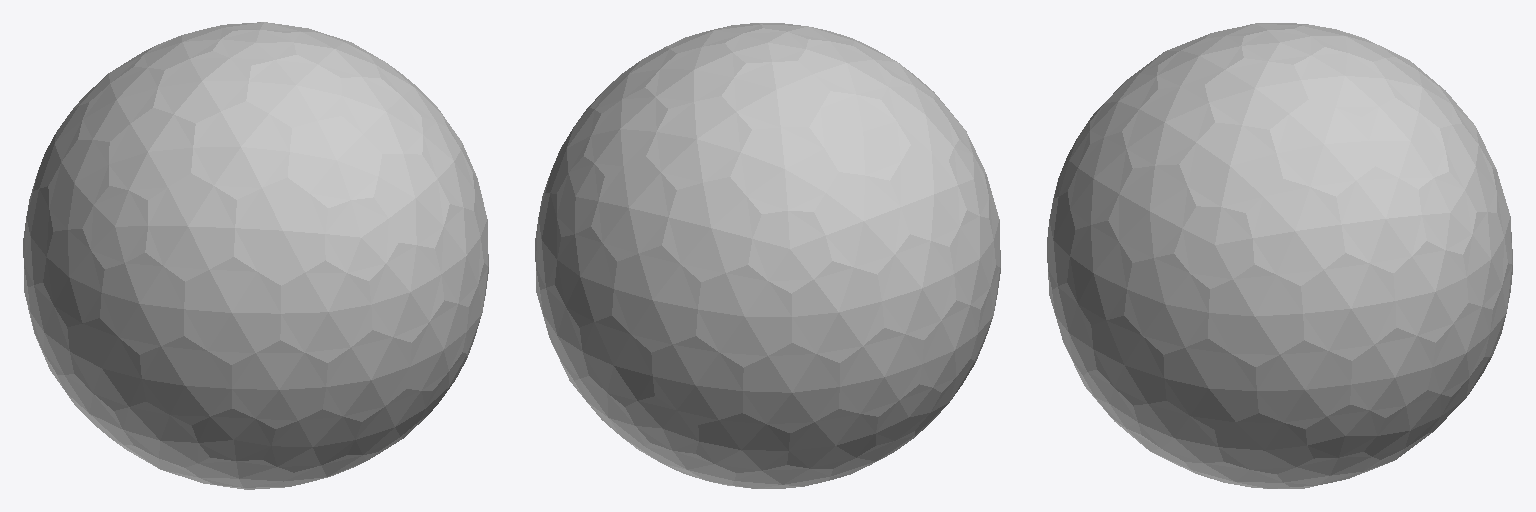
Rendered from ball.obj.
3 views of the same model, side by side, from view 1: azimuth 30°, elevation 25°; view 2: azimuth 150°, elevation 25°; view 3: azimuth 270°, elevation 25° (orthographic).
Parts seen in each view (by area): view 1: F3:GeoDome2; view 2: F3:GeoDome2; view 3: F3:GeoDome2.
Boxes of the visible parts, x1=… form: F3:GeoDome2: x1=23, y1=22, x2=488, y2=489; F3:GeoDome2: x1=535, y1=23, x2=1000, y2=488; F3:GeoDome2: x1=1047, y1=23, x2=1512, y2=488.
Bounding box in the file's own units: 1.94 × 1.96 × 1.94.